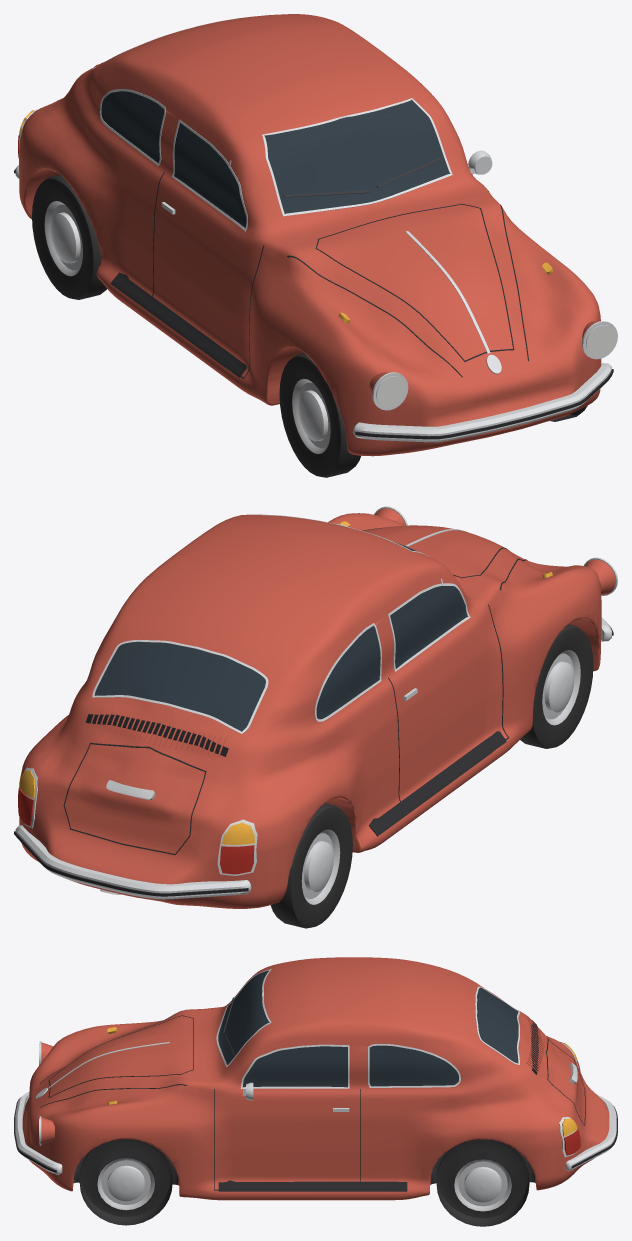
The model's file is kafer.glb.
3 views of the same model, one above another, from view 1: azimuth 30°, elevation 25°; view 2: azimuth 150°, elevation 25°; view 3: azimuth 270°, elevation 25° (orthographic). The views are drawn at different scales.
Parts seen in each view (by area): view 1: paint, glass, trim, wheel_rr, wheel_fr, headlights; view 2: paint, glass, trim, wheel_rr, wheel_fr, taillights, rear_blinker_right; view 3: paint, glass, trim, wheel_rl, wheel_fl.
Part boxes in pixels (x1,y1,x2,y2): paint: [19, 14, 601, 456]; glass: [101, 91, 449, 228]; trim: [14, 19, 617, 442]; wheel_rr: [32, 174, 106, 299]; wheel_fr: [279, 353, 360, 477]; headlights: [376, 325, 615, 407]; paint: [19, 513, 601, 908]; glass: [94, 542, 467, 731]; trim: [14, 506, 617, 899]; wheel_rr: [270, 803, 352, 928]; wheel_fr: [520, 624, 593, 748]; taillights: [18, 788, 254, 874]; rear_blinker_right: [222, 822, 254, 845]; paint: [22, 957, 609, 1200]; glass: [218, 970, 518, 1087]; trim: [14, 969, 617, 1191]; wheel_rl: [436, 1139, 529, 1226]; wheel_fl: [79, 1139, 172, 1225].
Bounding box in the file's own units: 1.57 × 1.5 × 4.1.
